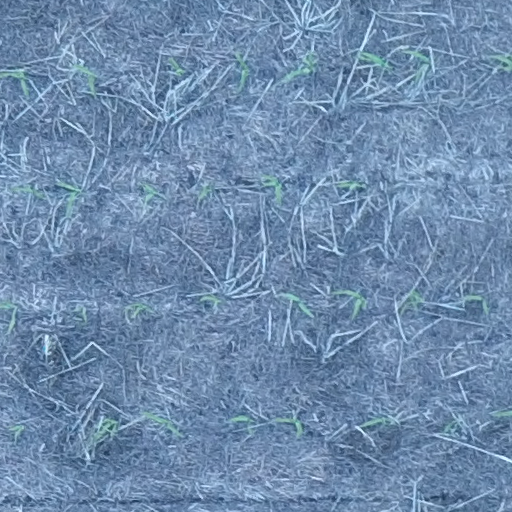planta: (329, 288, 367, 321), (282, 50, 317, 82), (142, 410, 181, 437), (401, 46, 430, 82), (71, 63, 97, 96), (56, 181, 82, 211), (356, 50, 392, 70), (261, 173, 283, 205), (396, 288, 422, 315), (91, 417, 119, 442), (284, 291, 311, 316), (275, 415, 304, 437), (234, 50, 248, 91), (228, 414, 254, 435), (464, 294, 489, 315), (10, 184, 44, 199), (124, 302, 151, 317), (356, 417, 391, 428), (167, 56, 184, 76), (334, 179, 363, 189), (7, 424, 25, 440), (143, 182, 157, 202), (73, 305, 88, 323), (197, 184, 212, 201), (198, 294, 221, 304)
